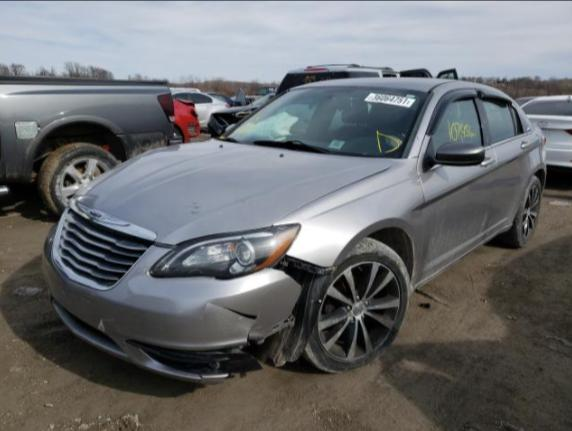Broken part: (42, 214, 339, 383)
